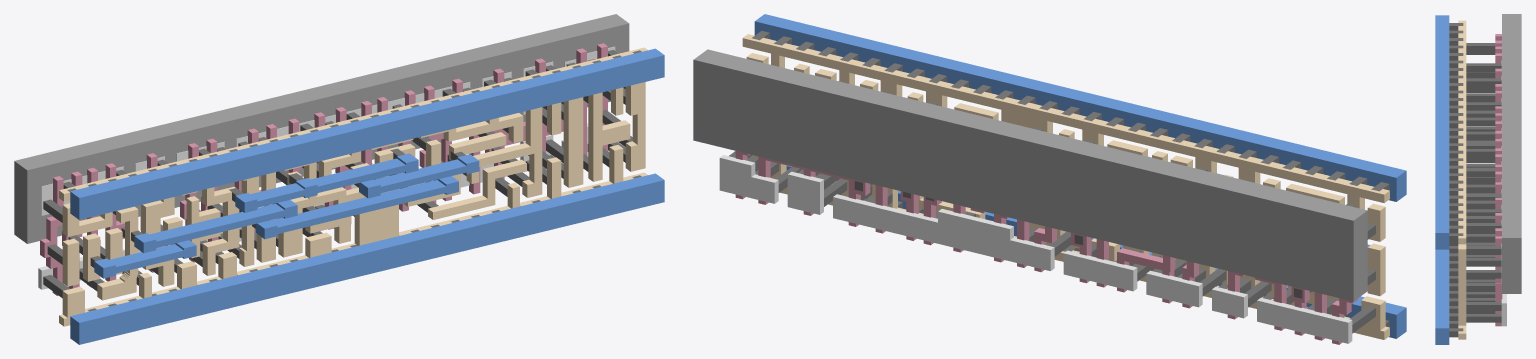
Rendered from sky130_fd_sc_hd__sdfsbp_1.gds.gltf.
3 renders of one model, left to right at view 1: azimuth 30°, elevation 25°; view 2: azimuth 150°, elevation 25°; view 3: azimuth 270°, elevation 25°, orthographic. The views are drawn at different scales.
Parts seen in each view (by area): view 1: sky130_fd_sc_hd__sdfsbp_1_met1, sky130_fd_sc_hd__sdfsbp_1_li1, sky130_fd_sc_hd__sdfsbp_1_nwell, sky130_fd_sc_hd__sdfsbp_1_poly, sky130_fd_sc_hd__sdfsbp_1_licon, sky130_fd_sc_hd__sdfsbp_1_diff, sky130_fd_sc_hd__sdfsbp_1_mcon; view 2: sky130_fd_sc_hd__sdfsbp_1_nwell, sky130_fd_sc_hd__sdfsbp_1_li1, sky130_fd_sc_hd__sdfsbp_1_diff, sky130_fd_sc_hd__sdfsbp_1_met1, sky130_fd_sc_hd__sdfsbp_1_poly, sky130_fd_sc_hd__sdfsbp_1_licon, sky130_fd_sc_hd__sdfsbp_1_mcon; view 3: sky130_fd_sc_hd__sdfsbp_1_licon, sky130_fd_sc_hd__sdfsbp_1_nwell, sky130_fd_sc_hd__sdfsbp_1_met1, sky130_fd_sc_hd__sdfsbp_1_mcon, sky130_fd_sc_hd__sdfsbp_1_li1, sky130_fd_sc_hd__sdfsbp_1_poly, sky130_fd_sc_hd__sdfsbp_1_diff.
Part boxes in pixels (left/top/right/bottom): sky130_fd_sc_hd__sdfsbp_1_met1: left=70, top=48, right=664, bottom=344; sky130_fd_sc_hd__sdfsbp_1_li1: left=59, top=47, right=647, bottom=326; sky130_fd_sc_hd__sdfsbp_1_nwell: left=14, top=14, right=629, bottom=243; sky130_fd_sc_hd__sdfsbp_1_poly: left=40, top=43, right=607, bottom=295; sky130_fd_sc_hd__sdfsbp_1_licon: left=43, top=50, right=632, bottom=298; sky130_fd_sc_hd__sdfsbp_1_diff: left=38, top=46, right=615, bottom=289; sky130_fd_sc_hd__sdfsbp_1_mcon: left=67, top=50, right=641, bottom=311; sky130_fd_sc_hd__sdfsbp_1_nwell: left=693, top=49, right=1367, bottom=301; sky130_fd_sc_hd__sdfsbp_1_li1: left=742, top=34, right=1389, bottom=339; sky130_fd_sc_hd__sdfsbp_1_diff: left=719, top=155, right=1352, bottom=343; sky130_fd_sc_hd__sdfsbp_1_met1: left=754, top=14, right=1406, bottom=338; sky130_fd_sc_hd__sdfsbp_1_poly: left=735, top=151, right=1357, bottom=344; sky130_fd_sc_hd__sdfsbp_1_licon: left=729, top=59, right=1375, bottom=333; sky130_fd_sc_hd__sdfsbp_1_mcon: left=752, top=31, right=1389, bottom=327; sky130_fd_sc_hd__sdfsbp_1_licon: left=1466, top=43, right=1501, bottom=322; sky130_fd_sc_hd__sdfsbp_1_nwell: left=1502, top=14, right=1521, bottom=293; sky130_fd_sc_hd__sdfsbp_1_met1: left=1435, top=15, right=1449, bottom=344; sky130_fd_sc_hd__sdfsbp_1_mcon: left=1449, top=23, right=1463, bottom=337; sky130_fd_sc_hd__sdfsbp_1_li1: left=1458, top=20, right=1466, bottom=339; sky130_fd_sc_hd__sdfsbp_1_poly: left=1495, top=34, right=1502, bottom=326; sky130_fd_sc_hd__sdfsbp_1_diff: left=1501, top=60, right=1506, bottom=326.
Size of the model in its own units: 13.72 by 3.2 by 2.24.
